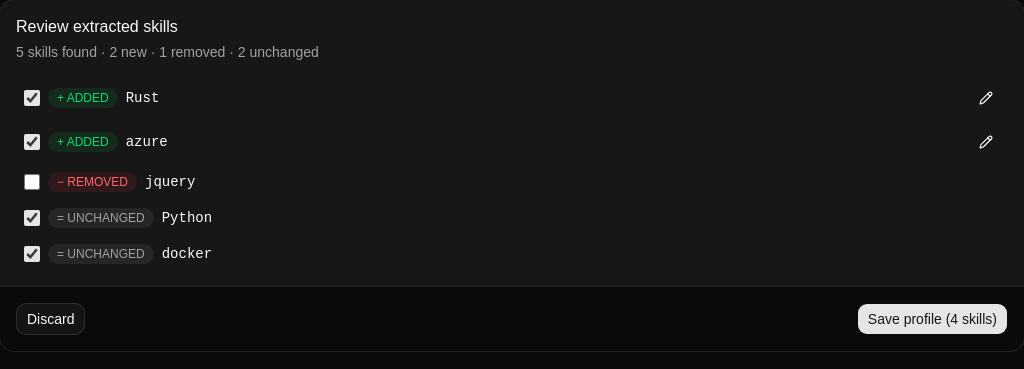
it: ReviewPanel › Save button label updates live when an "added" chip is unticked
Expected: the button with test id "save-button" reads "Save profile (4 skills)", [857,303,1008,335]
# Untick "Rust" (added → checked currently)
Click the checkbox named "Confirm skill Rust": [32, 98] box [24,90,40,106]
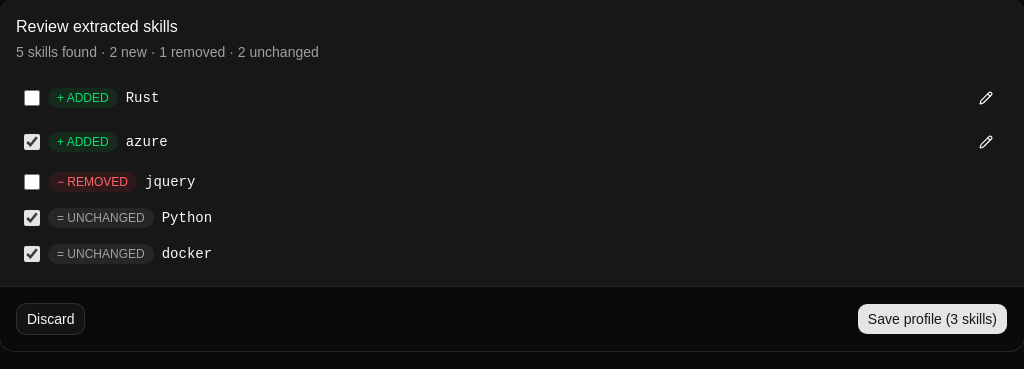
Expected: the button with test id "save-button" reads "Save profile (3 skills)", [857,303,1008,335]
